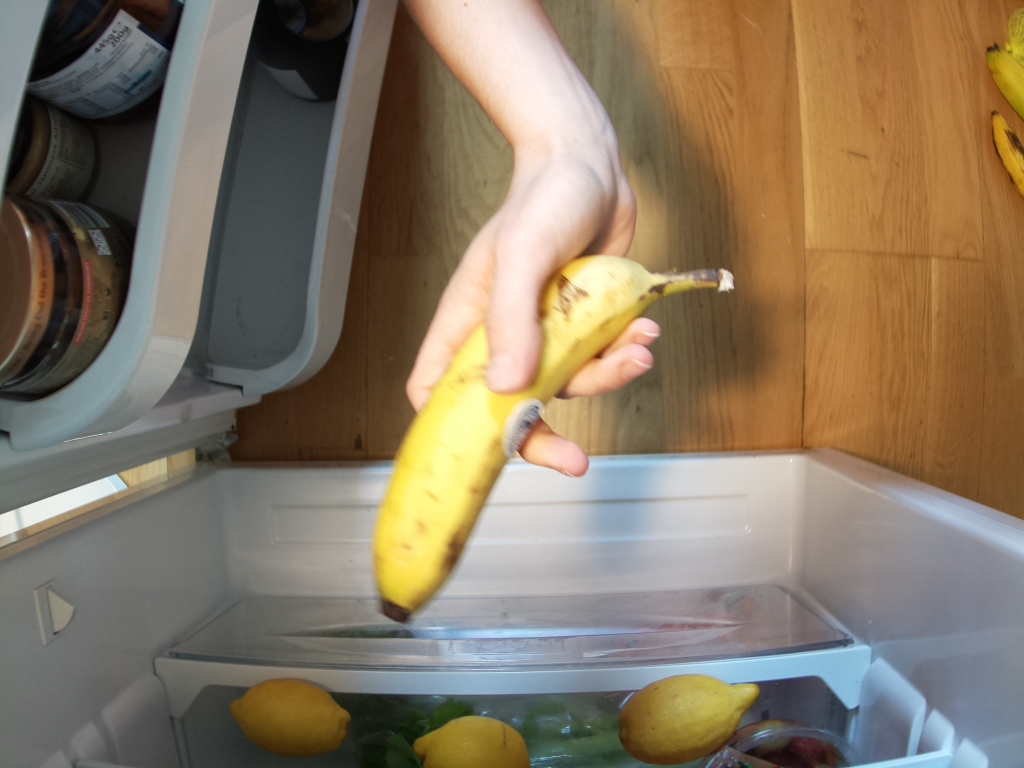banana: (370, 252, 738, 626)
